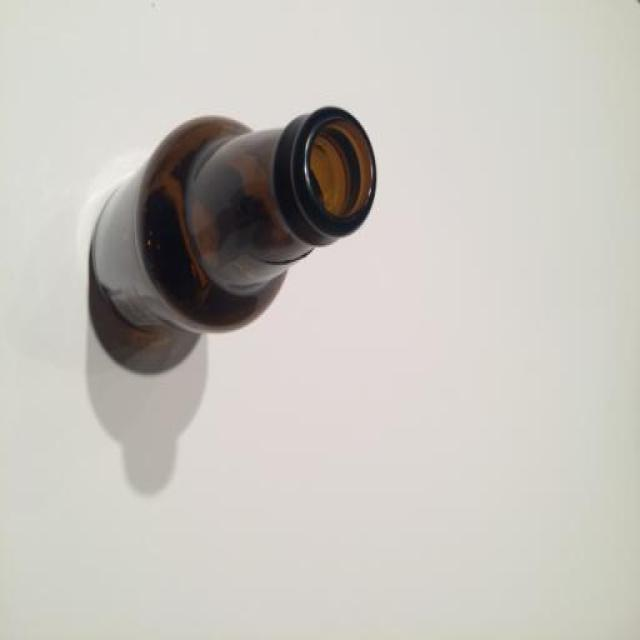glass: (92, 105, 378, 333)
